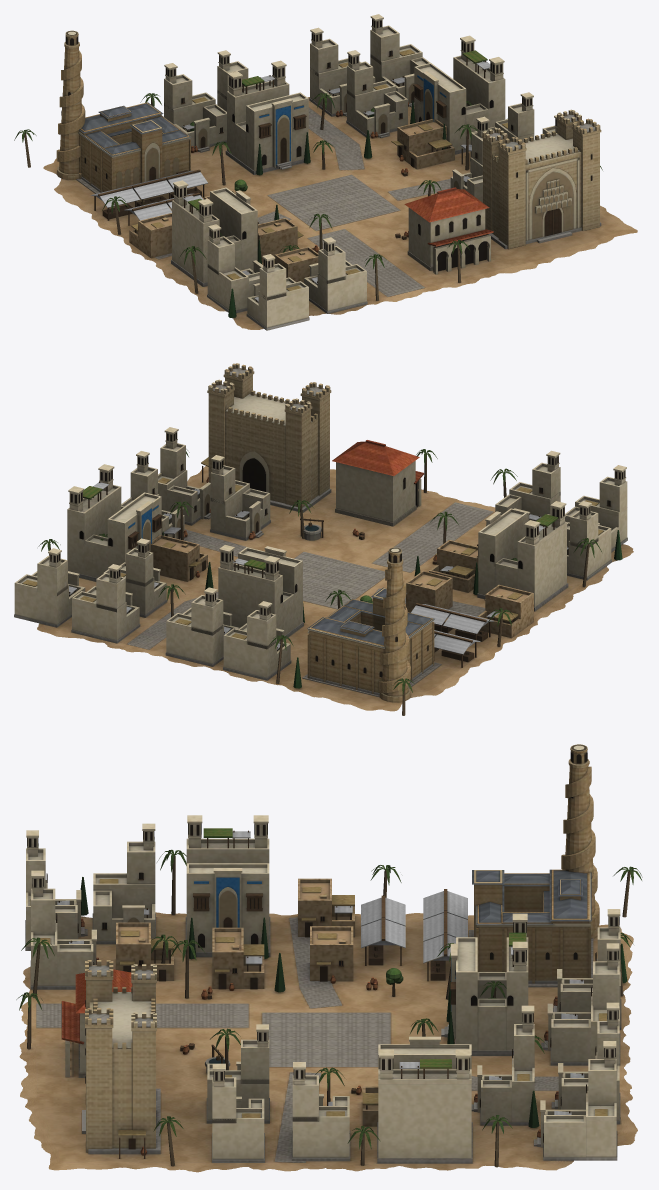
File: kingdoms-town-medium-b-levant.glb
3 renders of one model, top to bottom at view 1: azimuth 30°, elevation 25°; view 2: azimuth 150°, elevation 25°; view 3: azimuth 270°, elevation 25°, orthographic. The views are drawn at different scales.
Visible parts, largest first — view 1: LOD0; view 2: LOD0; view 3: LOD0.
Boxes of the visible parts, box(x1,y1,x2,y2) form: LOD0: box(14, 14, 637, 330); LOD0: box(14, 363, 633, 715); LOD0: box(16, 744, 642, 1172).
Size of what is drawn, in the model's own units: 6.16 by 2 by 6.09.
3 materials, 3 textured.
